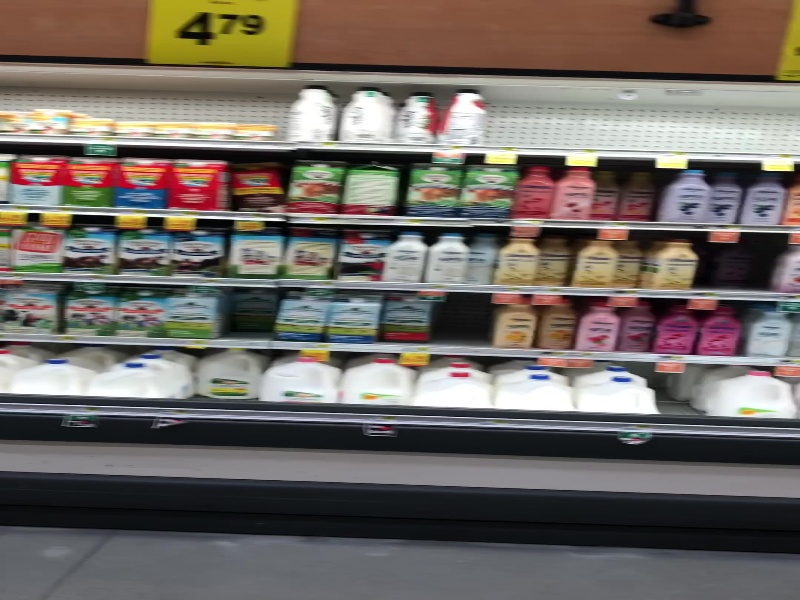void: (481, 85, 800, 151), (699, 230, 776, 295), (435, 294, 492, 350)
